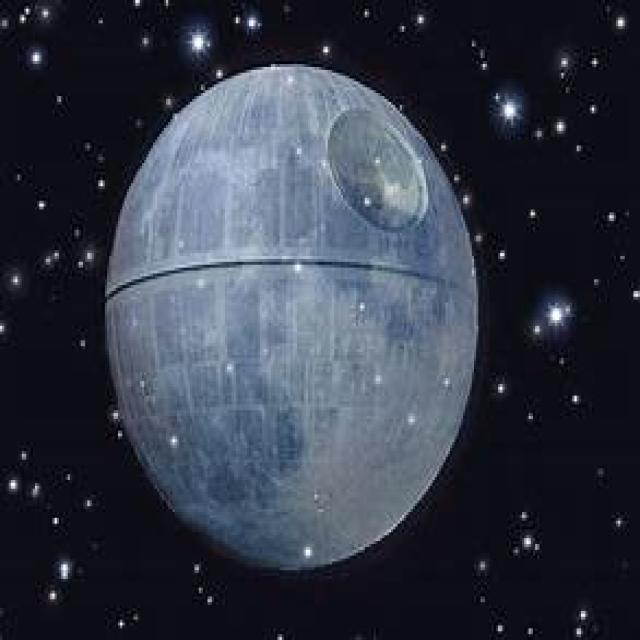deathStar: (102, 67, 481, 572)
